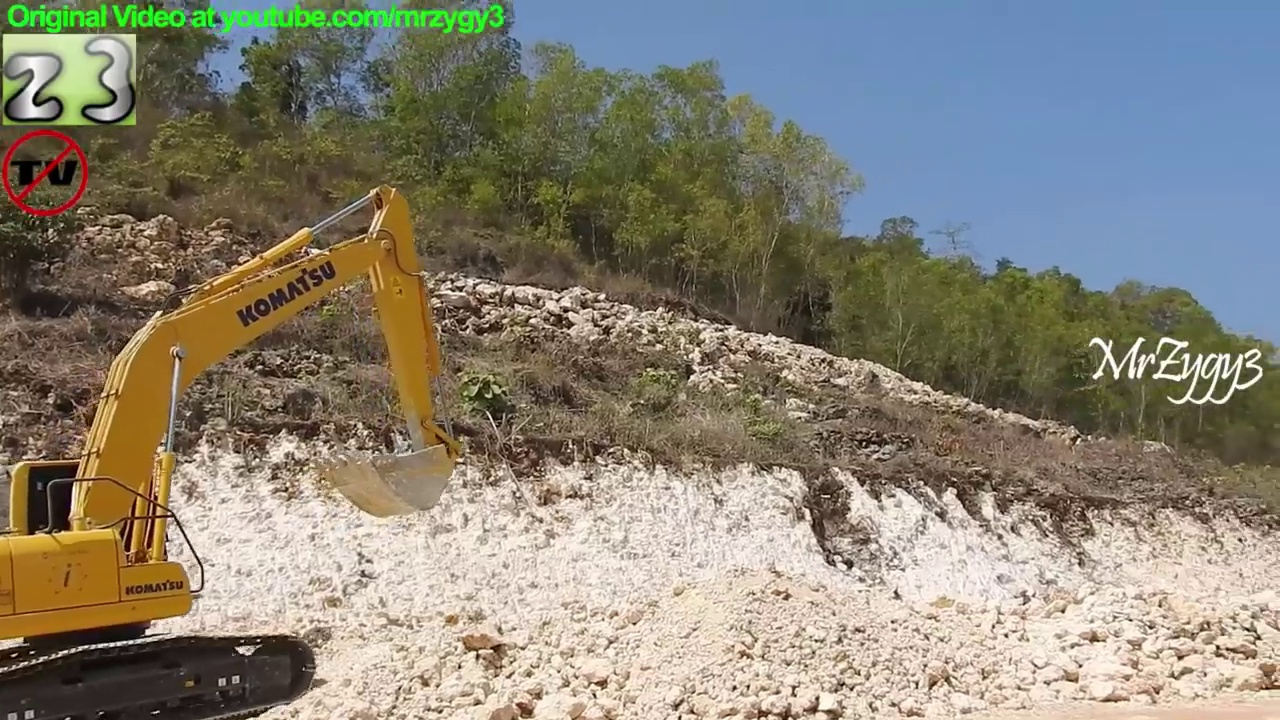excavator: (2, 181, 463, 720)
